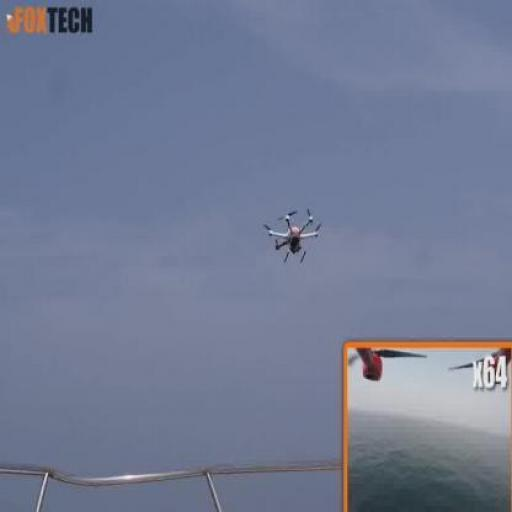drone: (256, 197, 329, 274)
